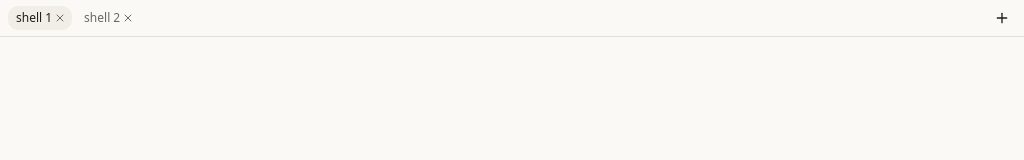
Test: TerminalPanel › closes through the backend and falls back to the tab that is left
Expected: the tab "shell 2" is shown, [76,6,120,30]
Click the button named "Close shell 2" at coordinates (130, 18), box [120,10,140,26]
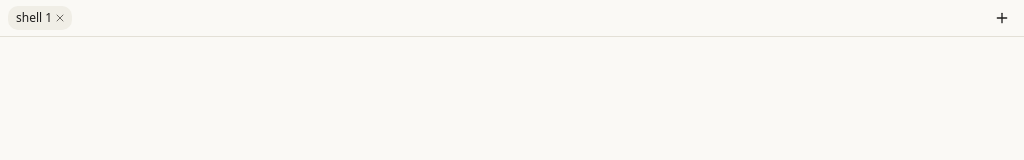
Expected: the tab "shell 2" is gone
